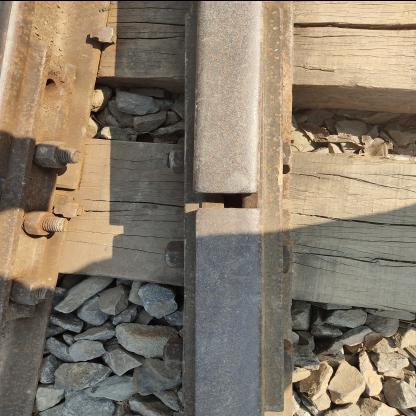Defective: (2, 42, 102, 314)
